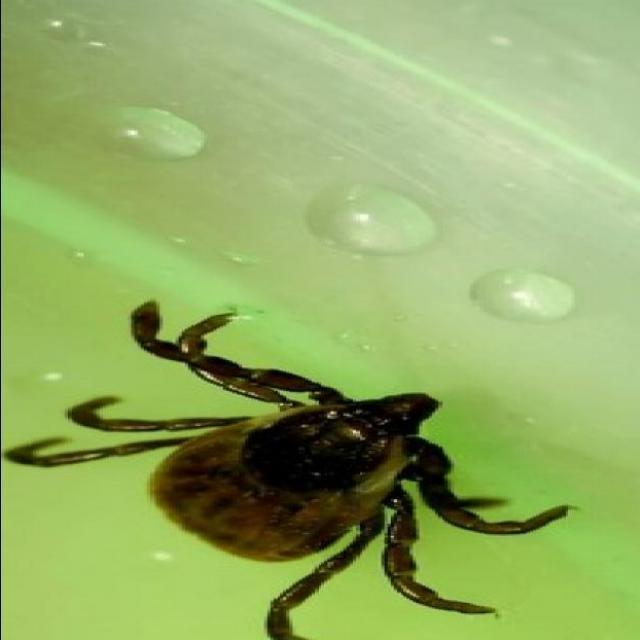Rhipicephalus Sanguineus-F: (3, 299, 573, 640)
